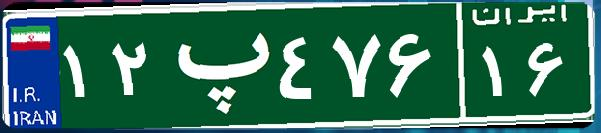1: (57, 26, 110, 107), (475, 38, 525, 113)
2: (110, 28, 158, 105)
4: (273, 28, 330, 110)
6: (385, 28, 445, 110), (525, 38, 570, 115)
7: (330, 28, 385, 110)
پ: (158, 15, 273, 115)
